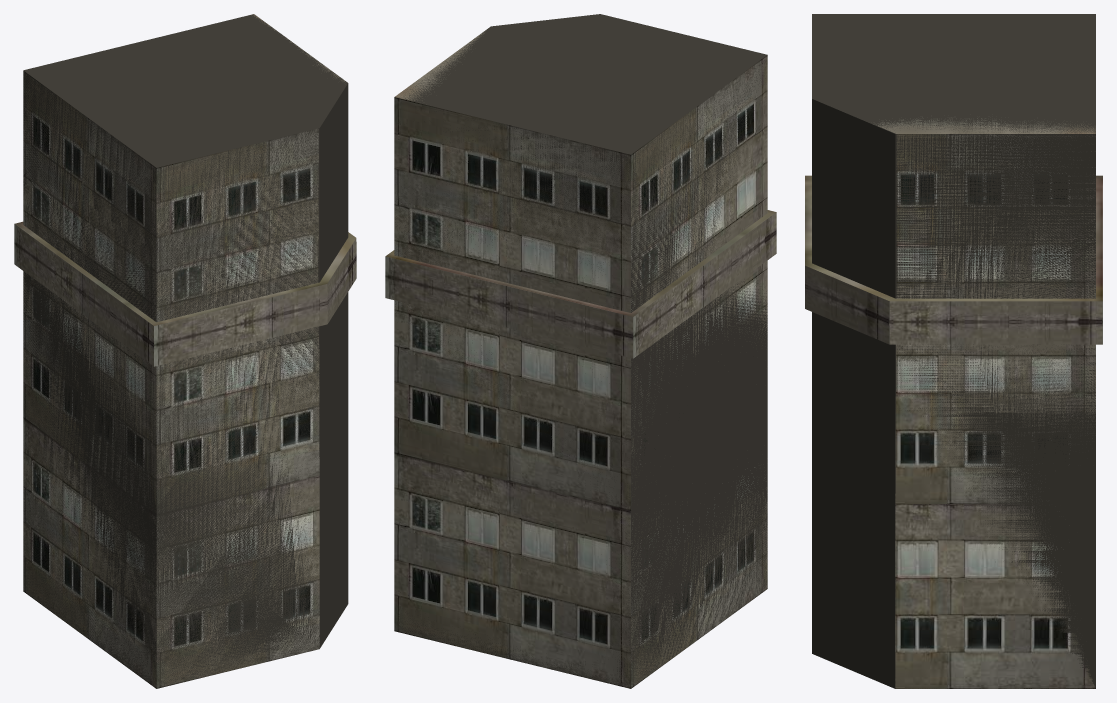
Rendered from building8.fbx.
3 renders of one model, left to right at view 1: azimuth 30°, elevation 25°; view 2: azimuth 150°, elevation 25°; view 3: azimuth 270°, elevation 25°, orthographic. The views are drawn at different scales.
Visible parts, largest first — view 1: Cube.015, Cube.006; view 2: Cube.006, Cube.015; view 3: Cube.015, Cube.006.
Part boxes in pixels (x1,y1,x2,y2): Cube.015: [23, 14, 348, 687]; Cube.006: [14, 14, 356, 688]; Cube.006: [385, 30, 776, 688]; Cube.015: [394, 14, 767, 687]; Cube.015: [812, 14, 1095, 688]; Cube.006: [805, 117, 1102, 688].
Size of the model in its own units: 1585 by 3259 by 1585.
